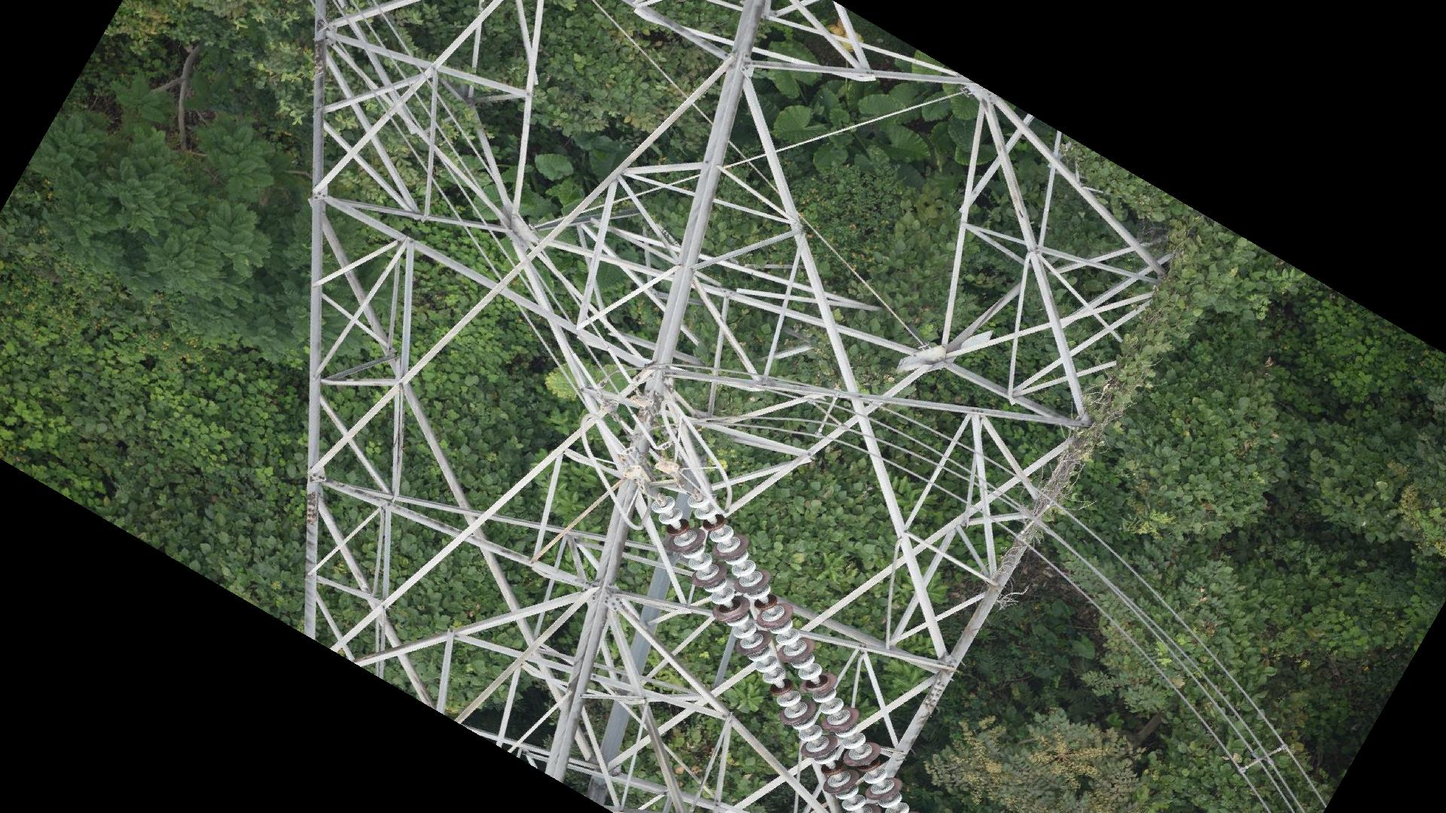insulator: (647, 486, 915, 813)
